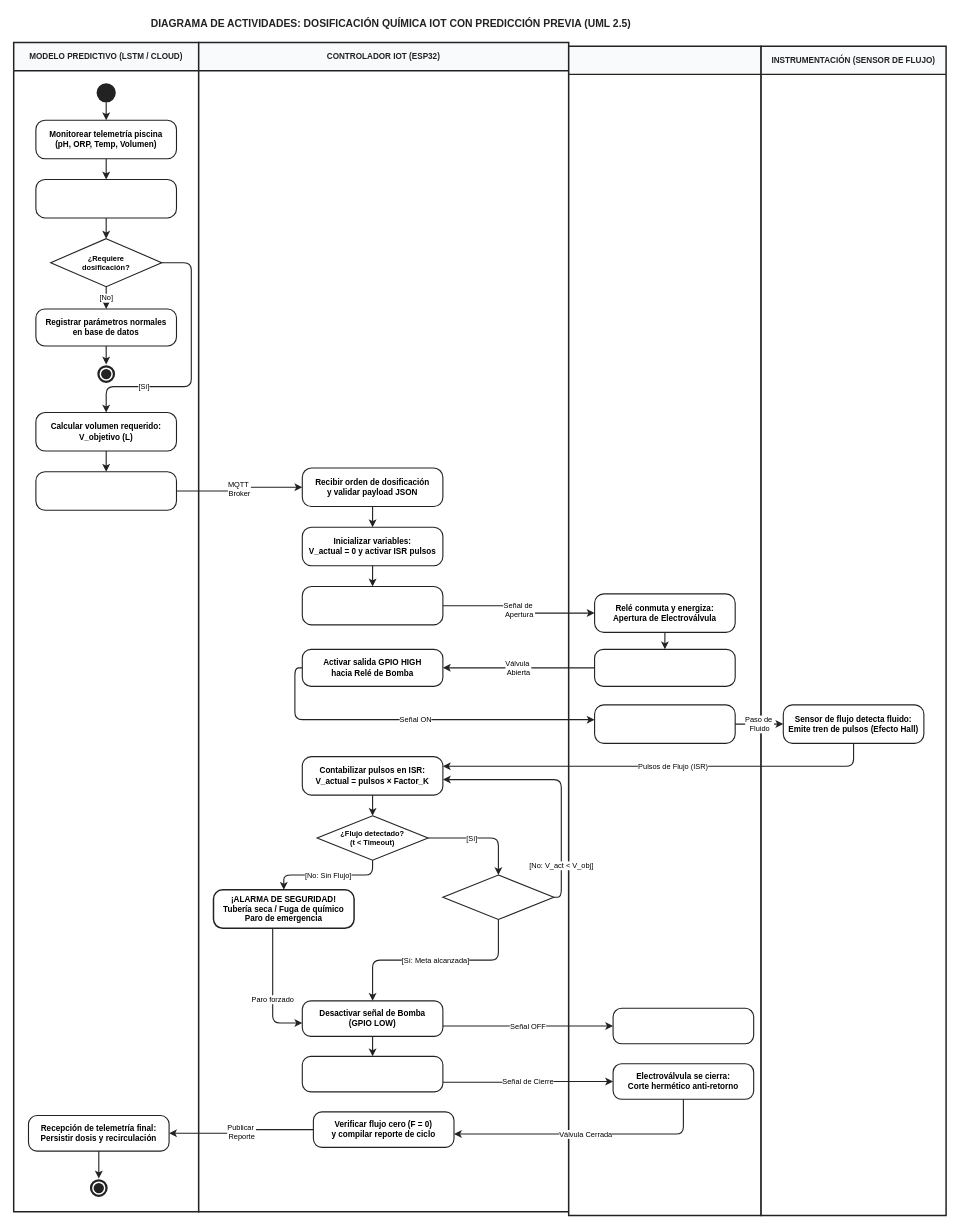
Some shapes in this 959 by 1228 pixel diagram are drawn without their labels. The box of each missing label's shape, as (x1, y1, x2, y2) in pixels:
Activar salida GPIO HIGH hacia Relé de Electroválvula: (301, 586, 443, 625)
ACTUADORES (RELÉ / VÁLVULA / BOMBA): (568, 45, 761, 1216)
Bomba Dosificadora arranca: Inyecta químico a piscina: (594, 704, 735, 744)
Bomba se detiene: Cesa bombeo de químico: (612, 1007, 754, 1044)
Desenergizar Relé de Válvula (GPIO LOW): (301, 1055, 443, 1092)
Ejecutar Red LSTM: Predecir degradación química: (35, 179, 177, 218)
Electroválvula abierta: Habilita paso de químico: (594, 648, 735, 687)
Publicar orden vía MQTT {cmd: DOSIFICAR, V_obj}: (35, 471, 177, 510)
¿V_actual ≥ V_objetivo?: (442, 874, 554, 920)
